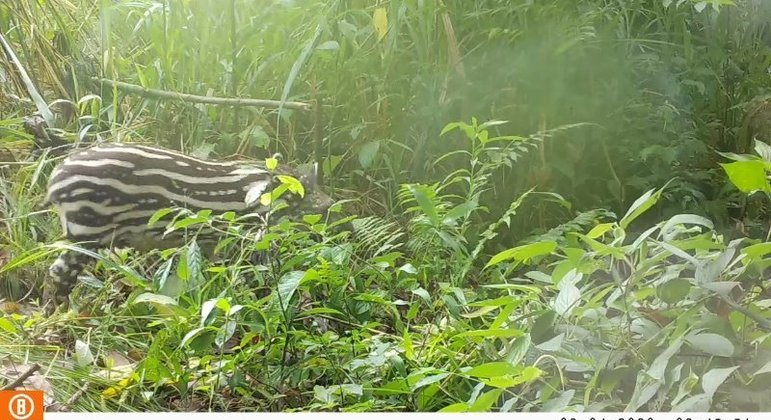Anta: (36, 138, 349, 315)
